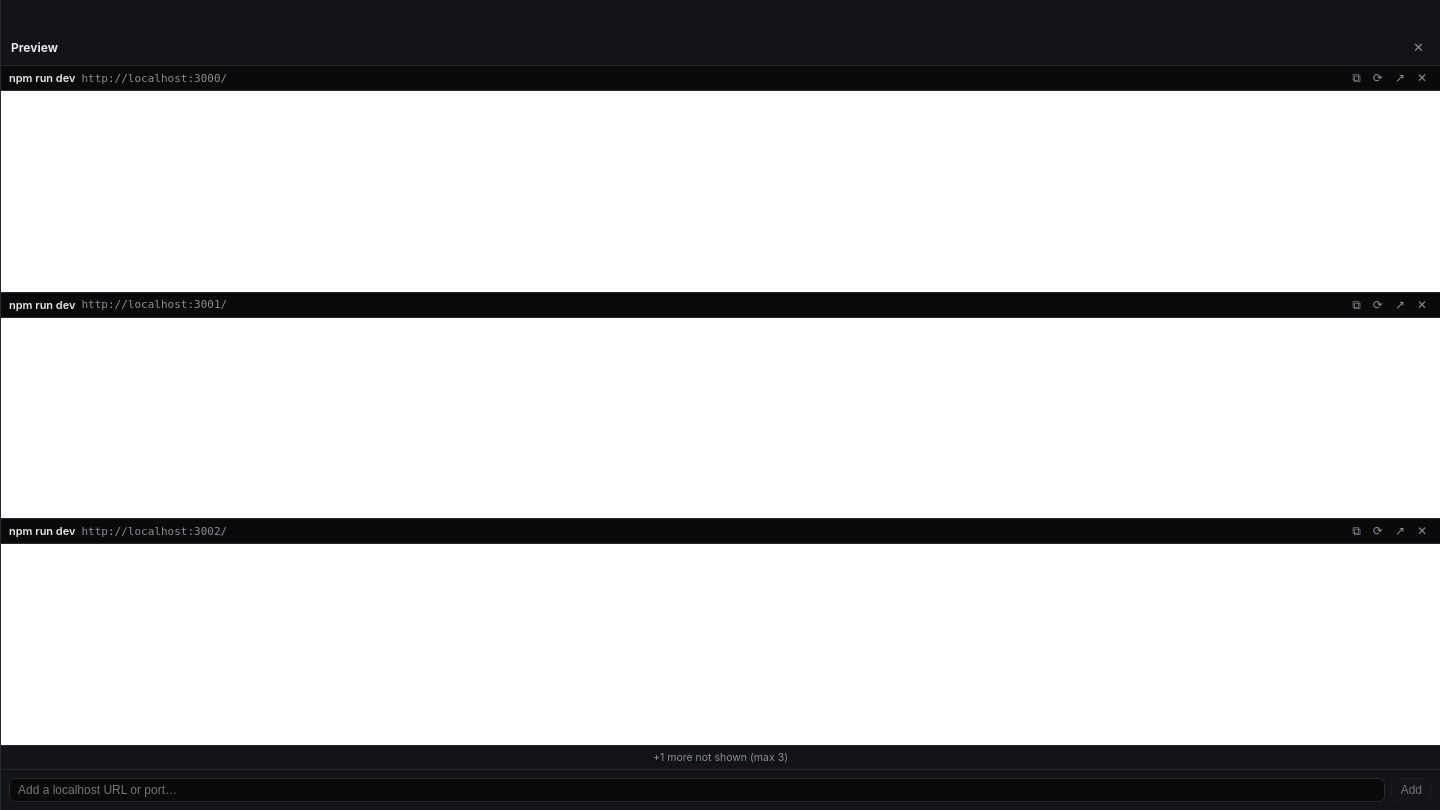
Test: PreviewDock › frees a closed pane's slot for a server past the cap
The width and height of the screenshot is (1440, 810).
What coordinates should you click on to do the following:
click the button named "Close preview of localhost:3000"
I would click on:
 (1422, 78)
Its box is [1412,70,1432,86].
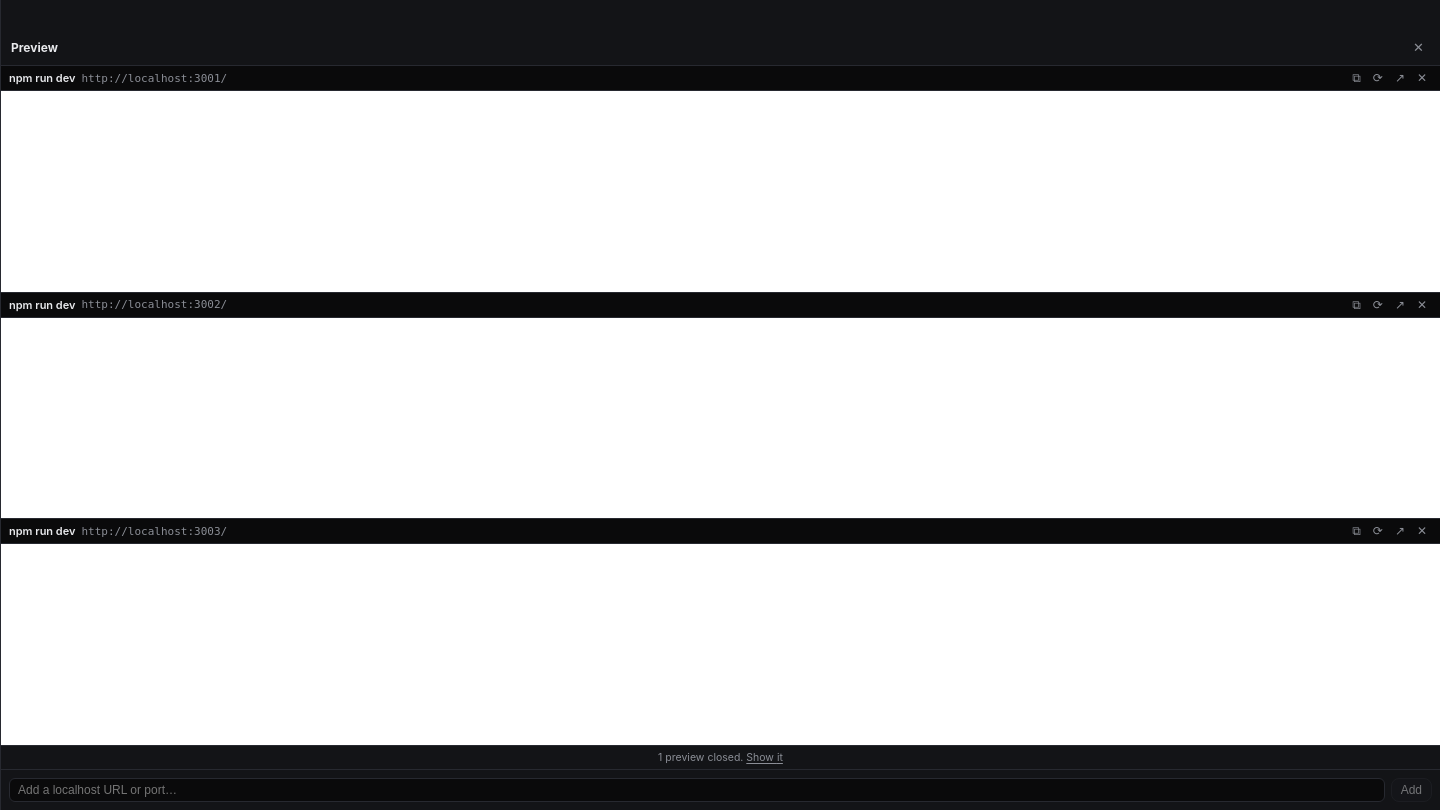
Expected: the text "http://localhost:3003/" is shown, [82,525,227,538]
Expected: the text "more not shown" is gone
